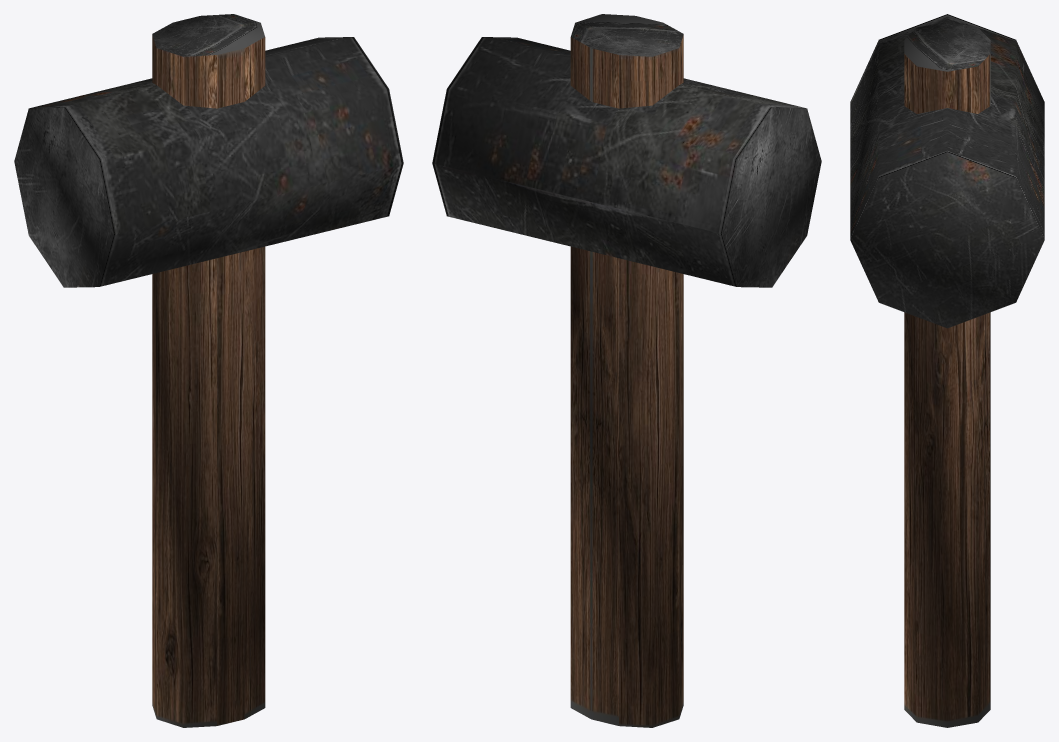
Rendered from Hammer.fbx.
3 renders of one model, left to right at view 1: azimuth 30°, elevation 25°; view 2: azimuth 150°, elevation 25°; view 3: azimuth 270°, elevation 25°, orthographic. The views are drawn at different scales.
Parts seen in each view (by area): view 1: Hammer; view 2: Hammer; view 3: Hammer.
Boxes of the visible parts, <box> form: Hammer: <box>14,14,403,727</box>; Hammer: <box>432,14,821,727</box>; Hammer: <box>850,14,1044,727</box>.
Bounding box in the file's own units: 33.75 × 74.58 × 20.
